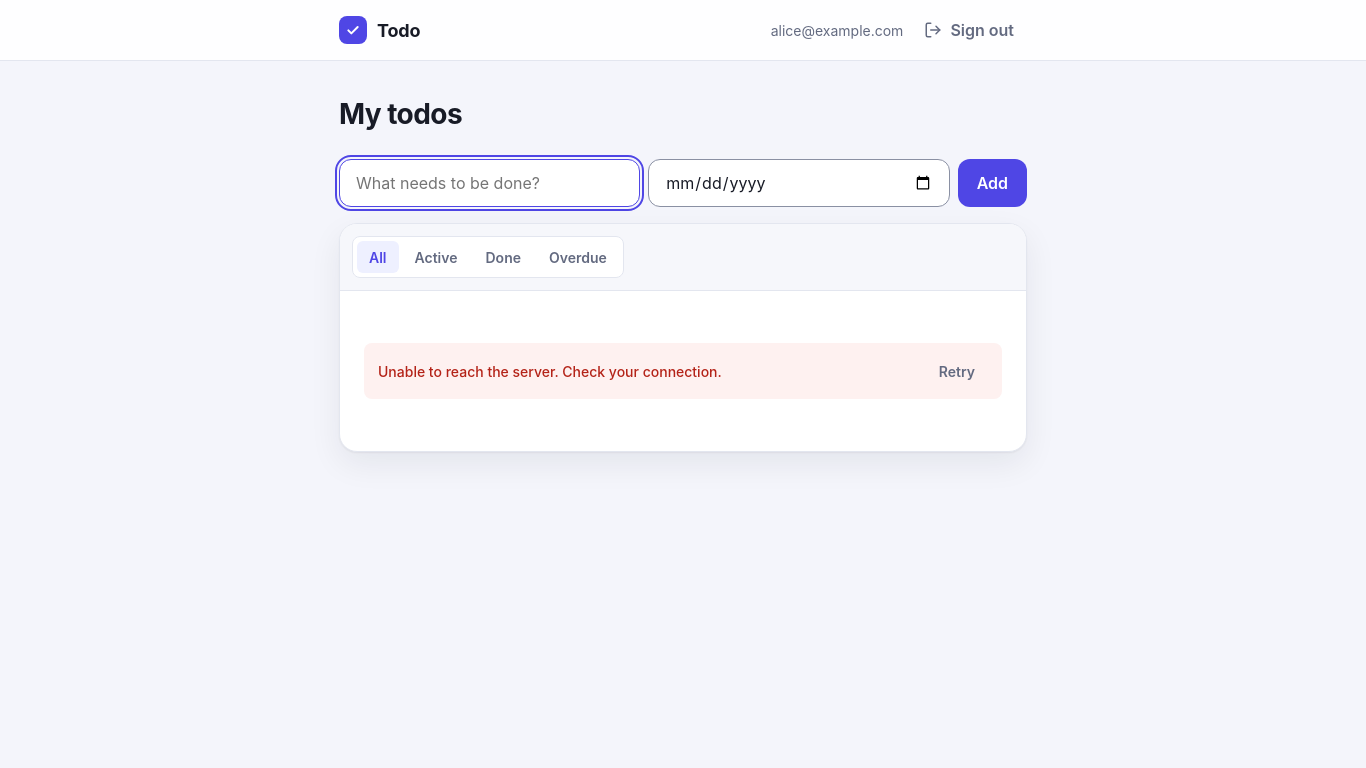
Test: session › signs out
This screenshot has width=1366, height=768.
Click the button "Sign out": (969, 30) [911,12,1027,48]
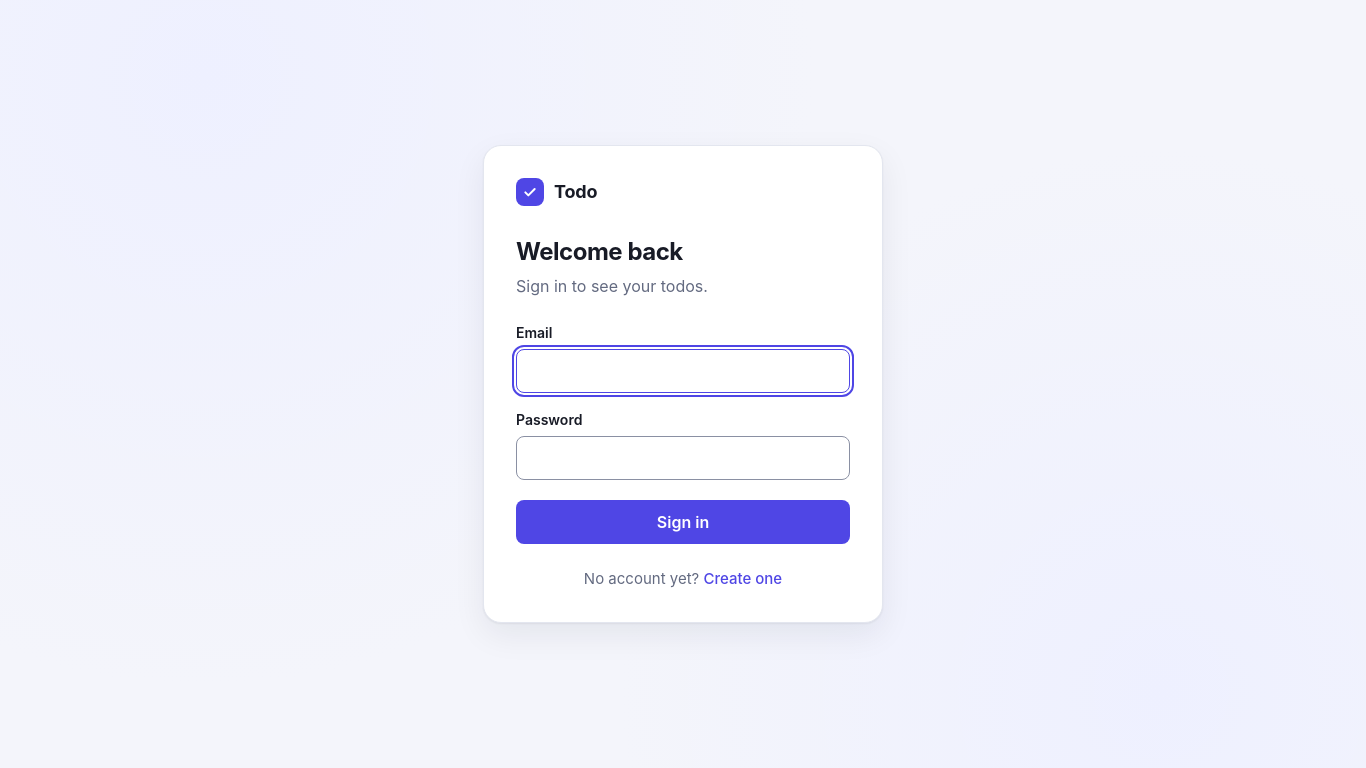
Expected: the heading "Welcome back" is shown, [516,237,683,266]
